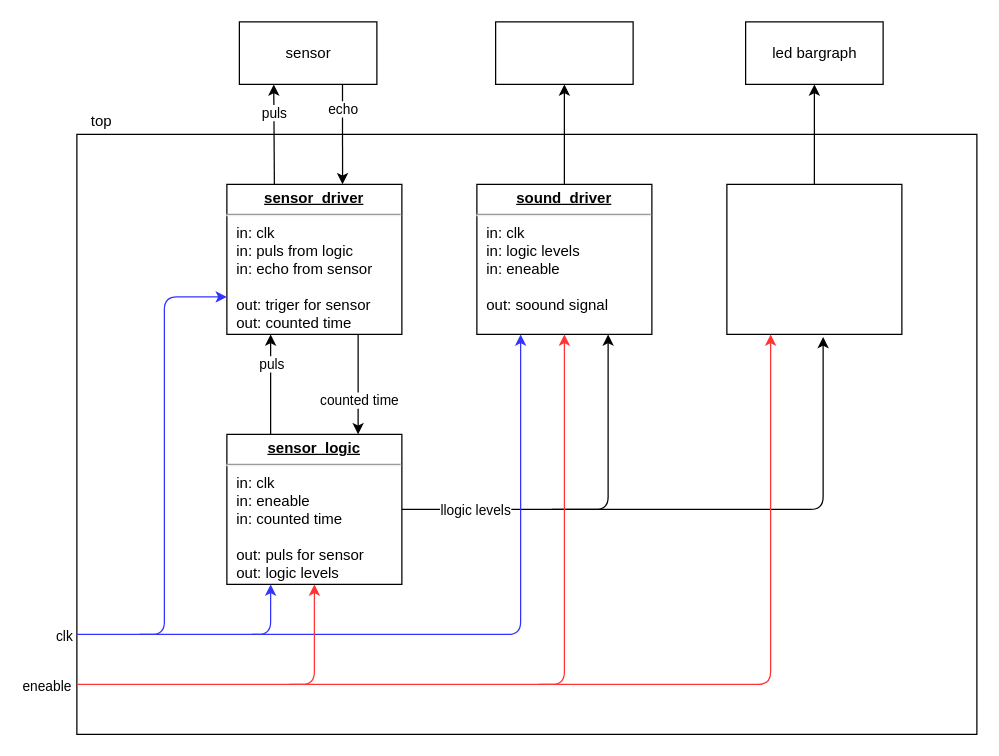
Image size: 999x756. Some labels were removed from this diagram. Here are the shapes that lost their labels. From the top down, the box of each, then its label:
(494, 21, 633, 84): buzzer
(726, 183, 902, 334): led_driver in: eneable in: logic levels out: led signal
